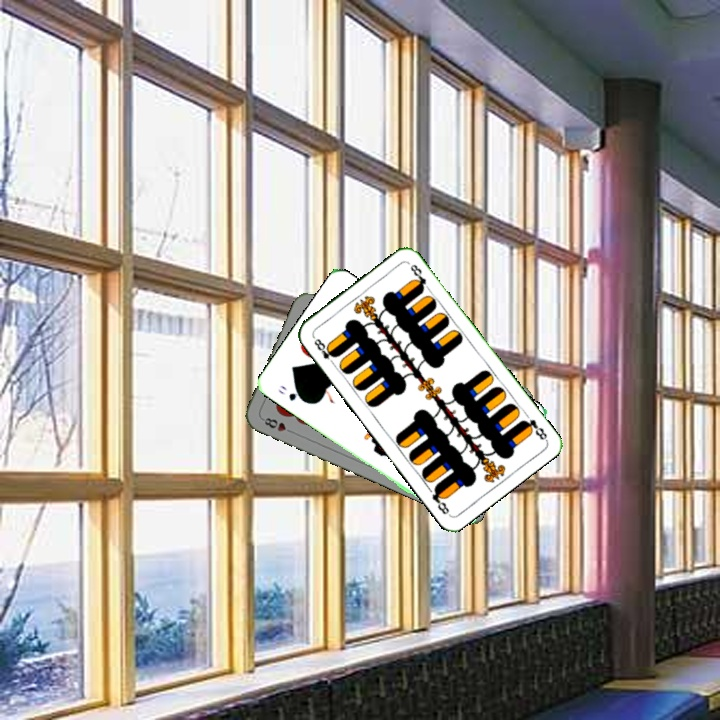E8: (309, 333, 339, 368), (517, 415, 550, 443)
GO: (273, 381, 309, 405)
H8: (258, 413, 297, 436)
